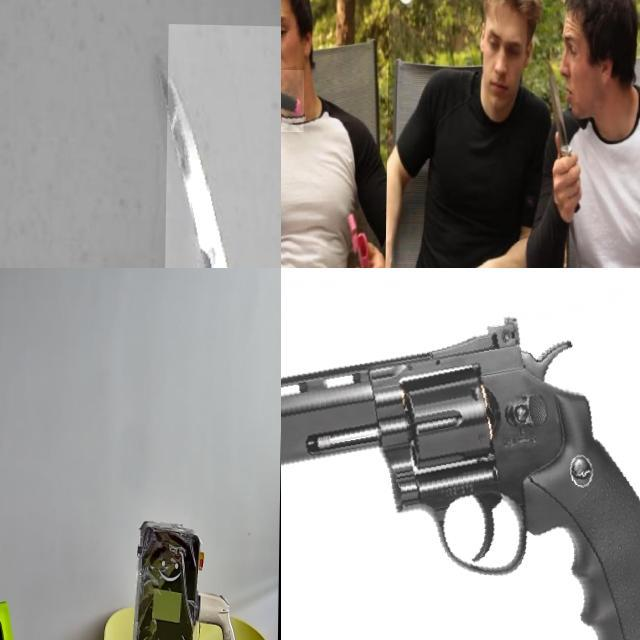-: (163, 22, 281, 268), (542, 51, 587, 216), (281, 67, 322, 131)
gun-knife-thesis - v11 Yolov5 augmented: (281, 309, 640, 640), (0, 346, 11, 405)
